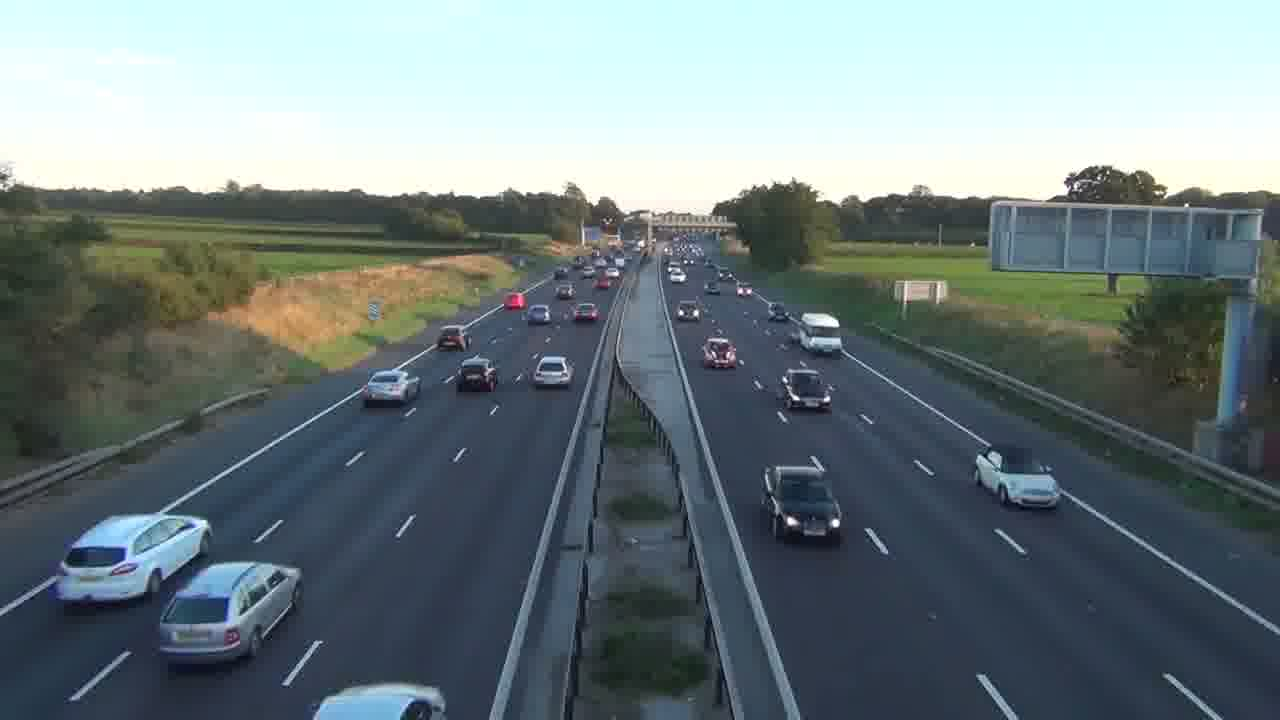car: (50, 511, 212, 613), (157, 559, 304, 666), (760, 458, 844, 543), (973, 446, 1061, 511), (312, 682, 447, 719), (781, 365, 834, 411), (362, 368, 421, 408), (457, 354, 500, 392), (531, 353, 575, 388)
truck: (973, 446, 1061, 511), (797, 312, 842, 356)
